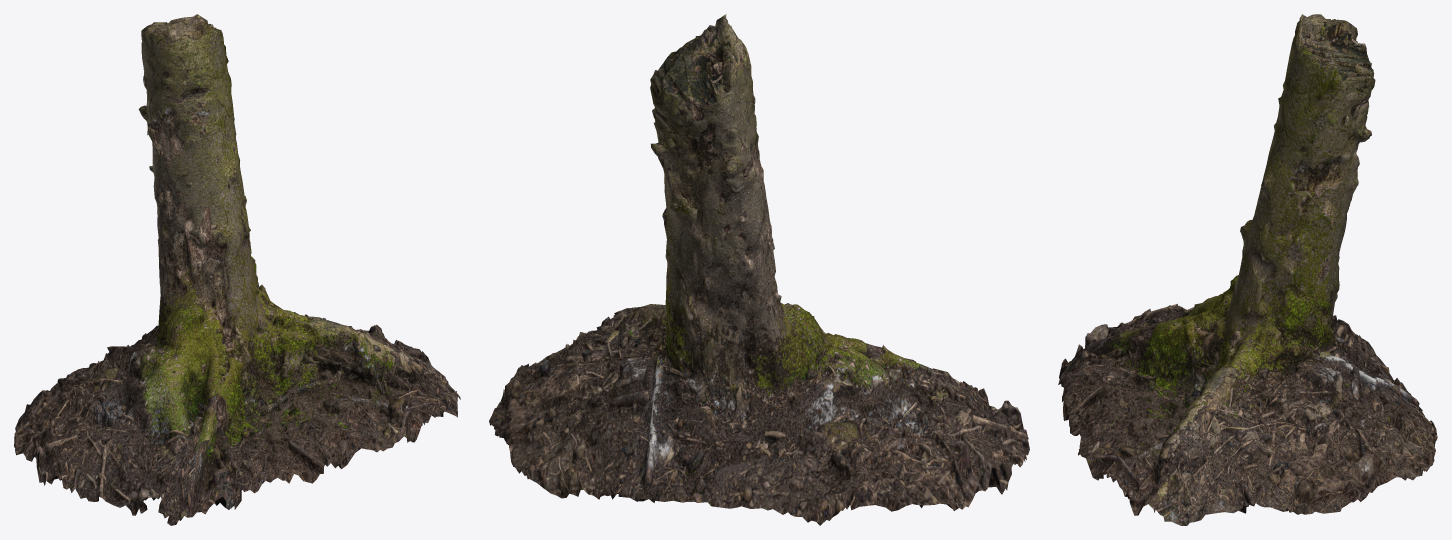
The model's file is PX_Stump_12_LOD1.fbx.
The picture shows the model from 3 angles, left to right: view 1: azimuth 30°, elevation 25°; view 2: azimuth 150°, elevation 25°; view 3: azimuth 270°, elevation 25°; orthographic projection. The views are drawn at different scales.
Parts seen in each view (by area): view 1: PX_Stump_12_LOD1; view 2: PX_Stump_12_LOD1; view 3: PX_Stump_12_LOD1.
Boxes of the visible parts, left/top/right/bottom form: PX_Stump_12_LOD1: left=14, top=14, right=460, bottom=525; PX_Stump_12_LOD1: left=489, top=14, right=1029, bottom=525; PX_Stump_12_LOD1: left=1058, top=14, right=1437, bottom=525.
Size of the model in its own units: 116 by 111 by 91.04.
